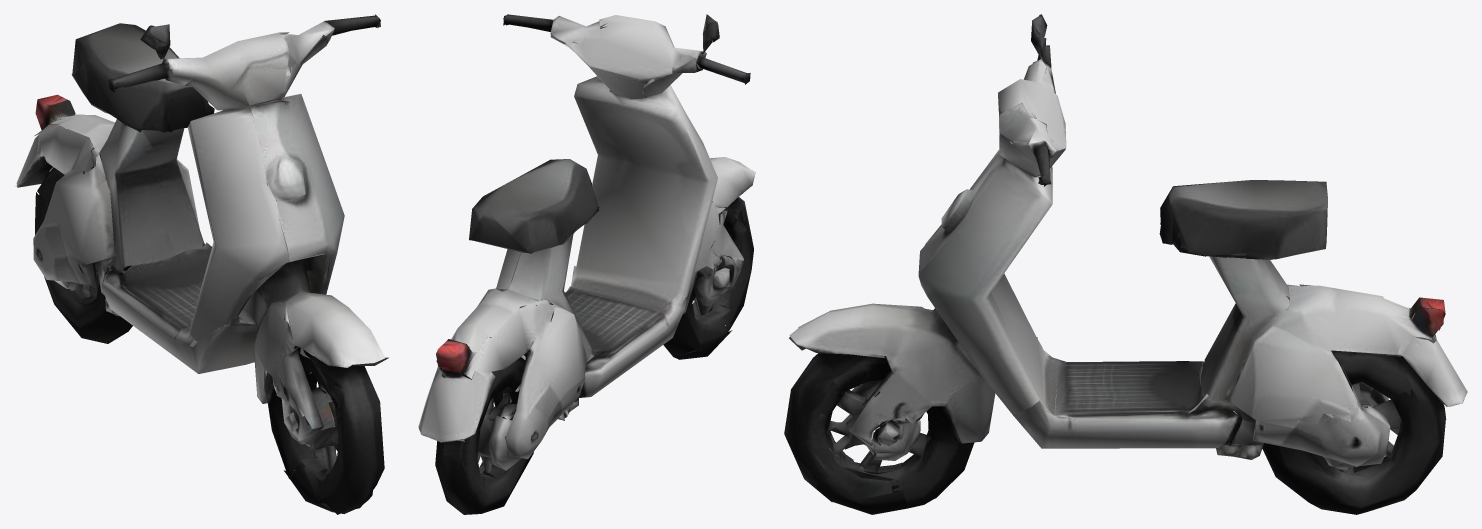
The model's file is motor.glb.
3 views of the same model, side by side, from view 1: azimuth 30°, elevation 25°; view 2: azimuth 150°, elevation 25°; view 3: azimuth 270°, elevation 25° (orthographic). The views are drawn at different scales.
Visible parts, largest first — view 1: model.001; view 2: model.001; view 3: model.001.
Boxes of the visible parts, x1,y1,x2,y2 form: model.001: (14,14,388,514); model.001: (418,14,755,514); model.001: (784,14,1467,514).
Bounding box in the file's own units: 0.8386 × 1.35 × 1.85.
Materials: 1 (1 with a texture image).
